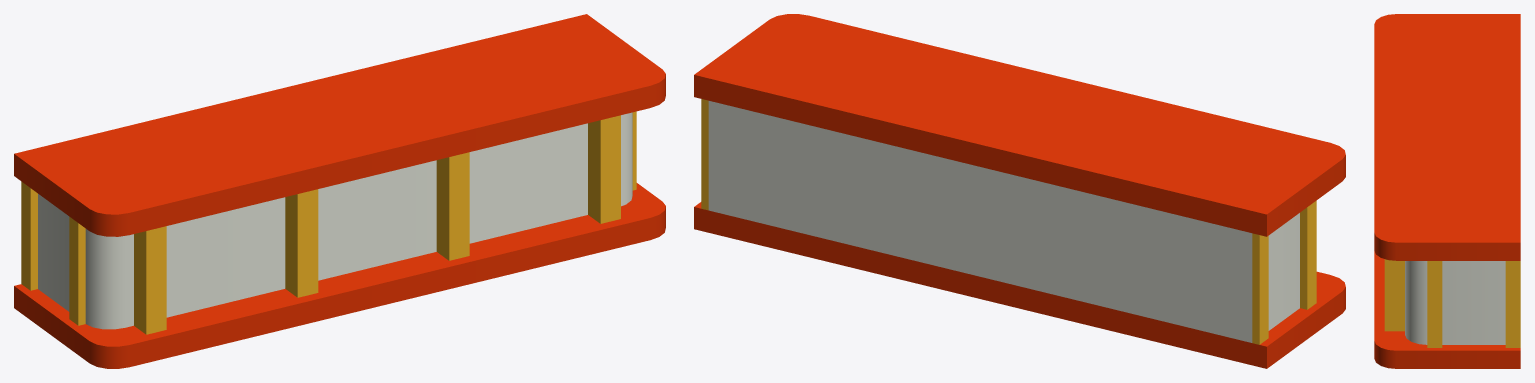
The model's file is TableB6_geo.fbx.
The picture shows the model from 3 angles, left to right: view 1: azimuth 30°, elevation 25°; view 2: azimuth 150°, elevation 25°; view 3: azimuth 270°, elevation 25°; orthographic projection. The views are drawn at different scales.
Visible parts, largest first — view 1: TableB6_geo; view 2: TableB6_geo; view 3: TableB6_geo.
Boxes of the visible parts, x1,y1,x2,y2 form: TableB6_geo: (14,14,665,368); TableB6_geo: (694,14,1345,368); TableB6_geo: (1374,14,1520,368).
Bounding box in the file's own units: 2.64 × 0.7143 × 0.6803.
